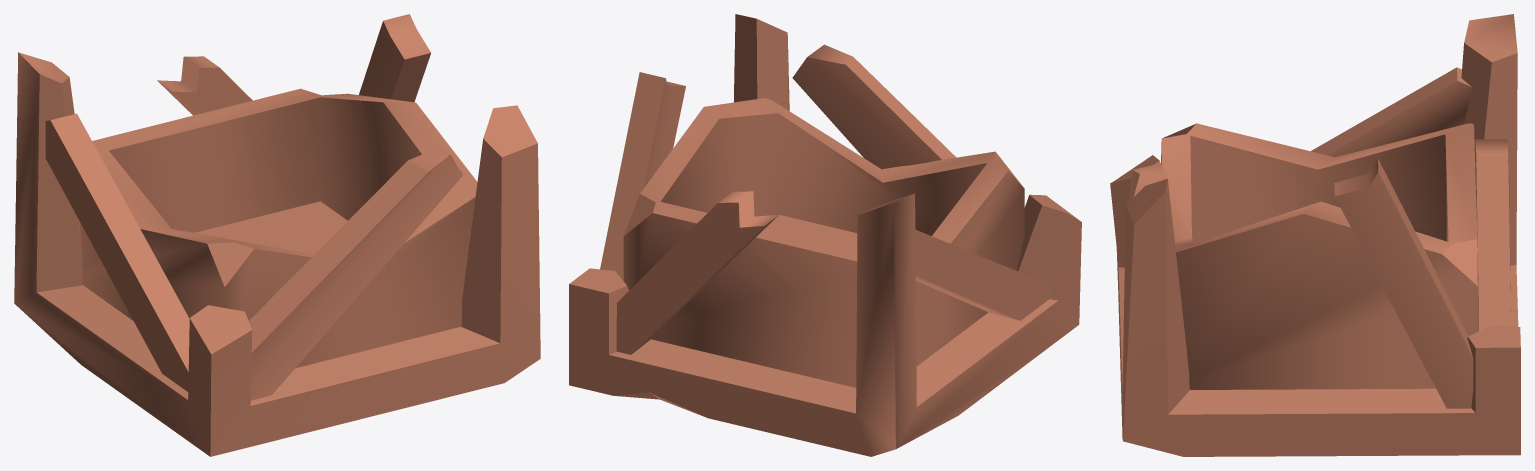
The model's file is Box_Ruins_1.fbx.
The picture shows the model from 3 angles, left to right: view 1: azimuth 30°, elevation 25°; view 2: azimuth 150°, elevation 25°; view 3: azimuth 270°, elevation 25°; orthographic projection. The views are drawn at different scales.
Visible parts, largest first — view 1: SM_Prop_Crate_Open_01; view 2: SM_Prop_Crate_Open_01; view 3: SM_Prop_Crate_Open_01.
Part boxes in pixels (x1,y1,x2,y2): SM_Prop_Crate_Open_01: [14, 14, 540, 456]; SM_Prop_Crate_Open_01: [569, 14, 1081, 456]; SM_Prop_Crate_Open_01: [1110, 14, 1520, 456].
Size of the model in its own units: 83.48 by 63.85 by 84.49.
